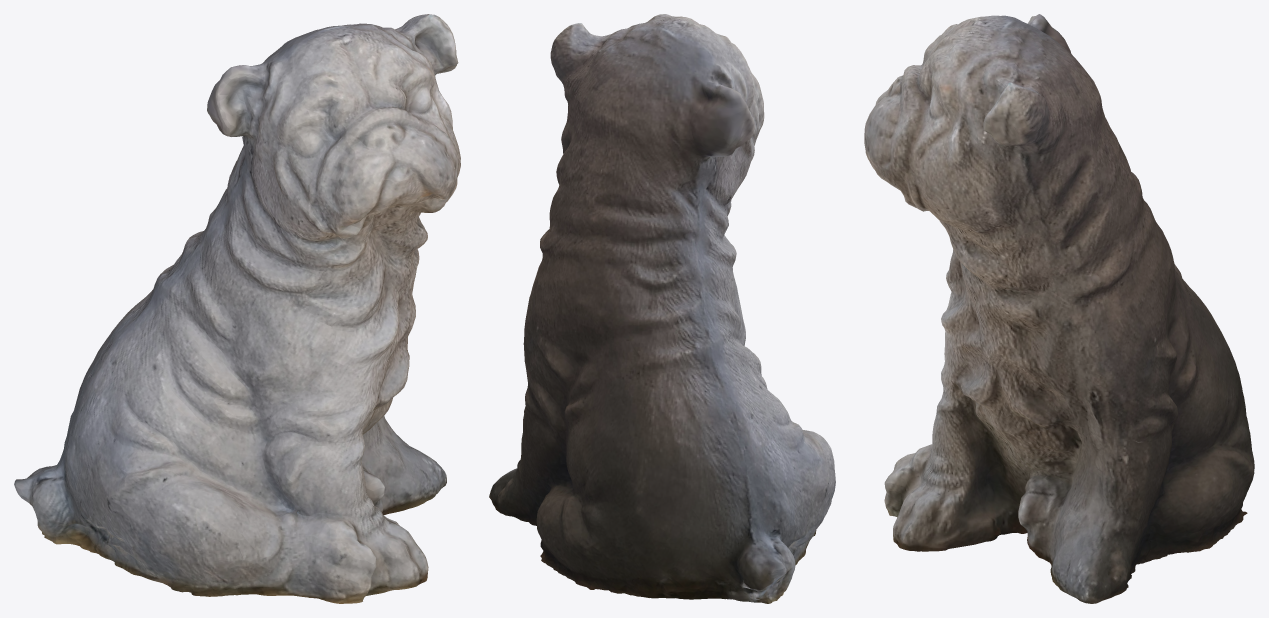
File: statue.glb
The picture shows the model from 3 angles, left to right: view 1: azimuth 30°, elevation 25°; view 2: azimuth 150°, elevation 25°; view 3: azimuth 270°, elevation 25°; orthographic projection. The views are drawn at different scales.
Parts seen in each view (by area): view 1: dog_statue (×2); view 2: dog_statue (×2); view 3: dog_statue (×2).
Boxes of the visible parts, bbox=[...] form: dog_statue (×2): bbox=[14, 14, 460, 603]; dog_statue (×2): bbox=[489, 14, 835, 603]; dog_statue (×2): bbox=[864, 14, 1254, 603].
Size of what is drawn, in the model's own units: 3.62 by 4.79 by 3.34.
1 material, 1 textured.
